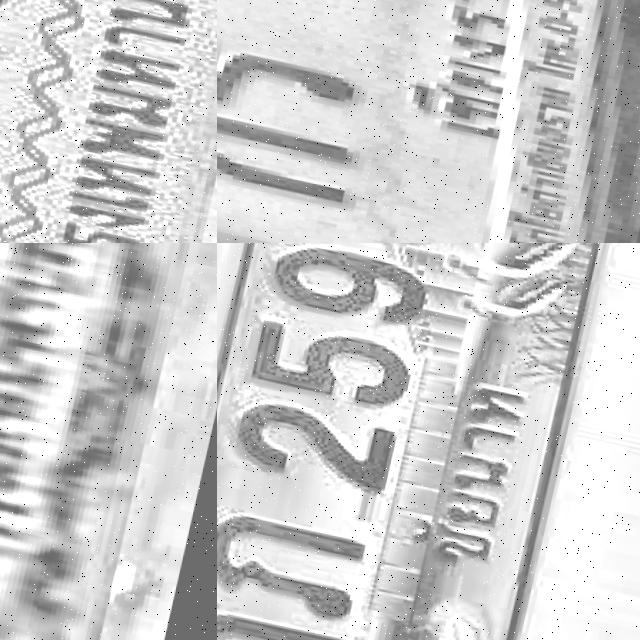license-plate: (217, 243, 640, 640), (217, 0, 640, 243), (0, 243, 215, 640), (0, 0, 217, 243)
